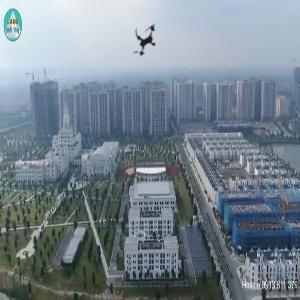drone: (115, 10, 179, 74)
